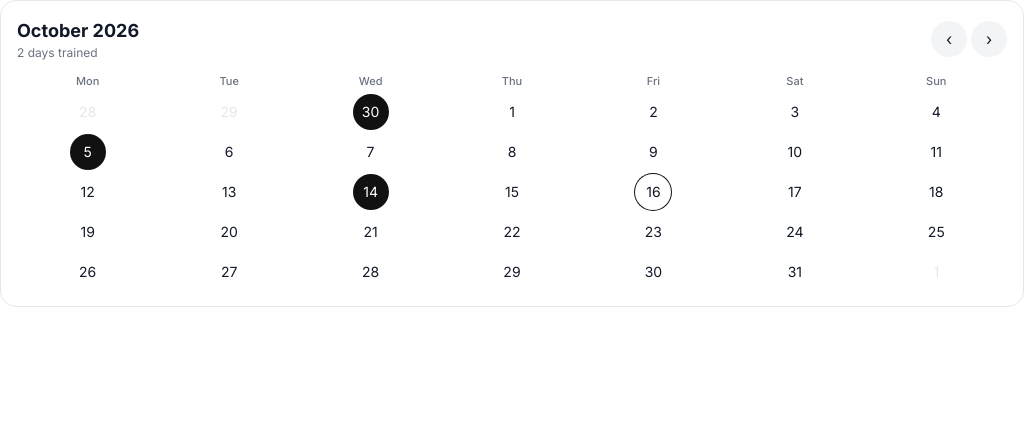
Test: MonthCalendar › tapping the same day again hides the details; tapping another day switches
Click the button "5" at (88, 152), box x1=70 y1=134 x2=106 y2=170
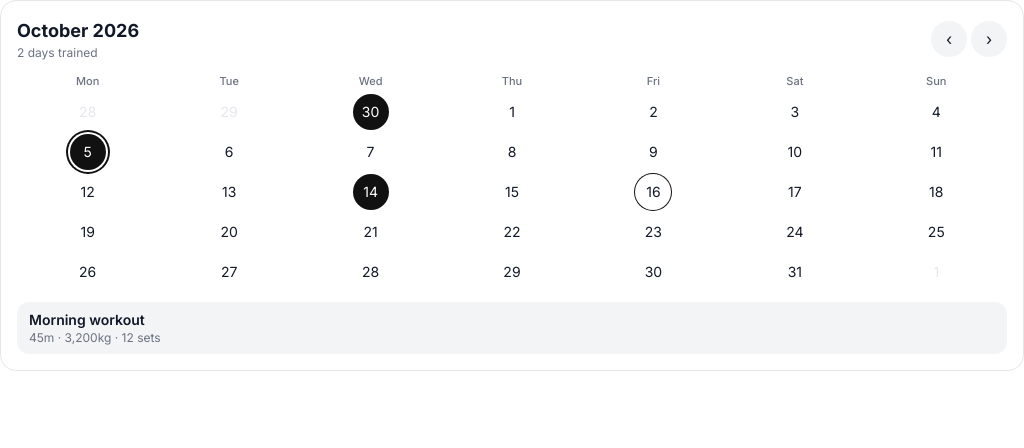
Expected: the text "Morning workout" is shown, x1=29 y1=310 x2=145 y2=328
Click the button "14" at (371, 192), box x1=353 y1=174 x2=389 y2=210
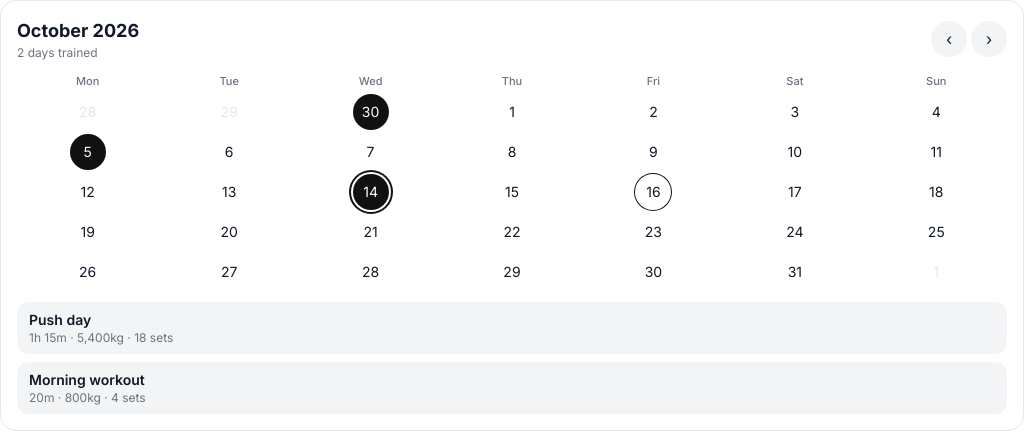
Expected: the text "Push day" is shown, x1=29 y1=310 x2=91 y2=328
Expected: the number of links is 2, x1=17 y1=302 x2=1007 y2=354; x1=17 y1=362 x2=1007 y2=414
Click the button "14" at (371, 192), box x1=353 y1=174 x2=389 y2=210
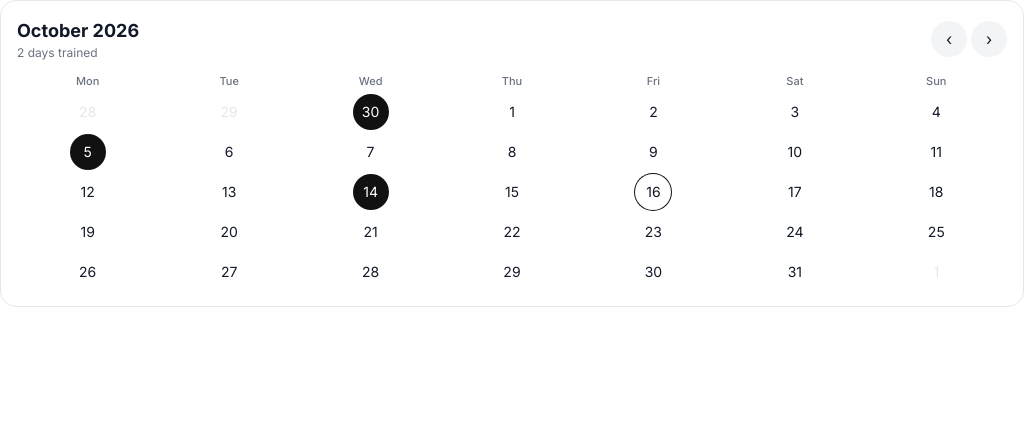
Expected: the list is gone
